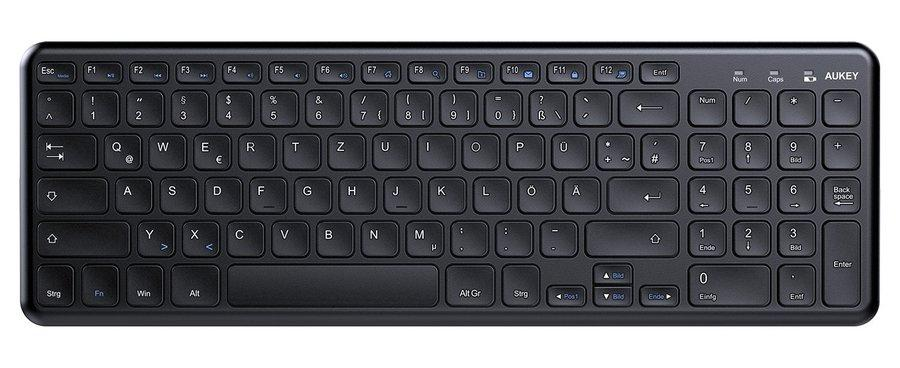0: (483, 89, 523, 127)
1: (79, 88, 119, 125)
2: (125, 88, 164, 125)
3: (171, 90, 210, 127)
4: (215, 90, 254, 126)
5: (261, 90, 300, 127)
6: (304, 88, 343, 125)
7: (350, 89, 389, 127)
8: (394, 90, 433, 127)
9: (439, 89, 478, 127)
a: (114, 177, 153, 215)
accent: (574, 90, 613, 127)
ae: (560, 174, 600, 212)
alt-left: (169, 262, 220, 306)
altgr-right: (444, 261, 496, 305)
b: (314, 218, 353, 256)
c: (225, 218, 264, 255)
caret: (35, 88, 73, 125)
comma: (448, 218, 488, 255)
d: (202, 174, 241, 212)
del: (617, 87, 678, 125)
e: (191, 131, 231, 169)
enter: (606, 174, 679, 212)
f: (247, 174, 286, 212)
g: (292, 174, 331, 212)
h: (336, 174, 376, 212)
hash: (641, 134, 679, 171)
i: (415, 131, 454, 168)
j: (382, 174, 420, 212)
k: (428, 176, 467, 214)
keyboard: (14, 37, 886, 331)
l: (471, 174, 510, 212)
m: (403, 218, 444, 256)
minus: (537, 219, 577, 255)
n: (359, 218, 398, 255)
o: (461, 133, 500, 170)
oe: (516, 174, 555, 212)
p: (505, 131, 543, 168)
plus: (594, 131, 634, 168)
point: (493, 218, 533, 255)
q: (101, 131, 142, 169)
r: (237, 133, 276, 170)
s: (157, 175, 197, 212)
shift-left: (36, 217, 130, 256)
shift-lock: (34, 174, 107, 213)
shift-right: (583, 218, 678, 255)
space: (225, 260, 438, 306)
ss: (528, 90, 567, 128)
strg-left: (34, 262, 75, 307)
strg-right: (500, 262, 540, 306)
t: (281, 131, 320, 168)
tab: (35, 130, 96, 168)
u: (372, 133, 412, 171)
ue: (551, 134, 590, 171)
v: (269, 218, 309, 255)
w: (147, 131, 185, 168)
x: (180, 219, 220, 255)
y: (136, 219, 176, 255)
z: (325, 131, 365, 168)
